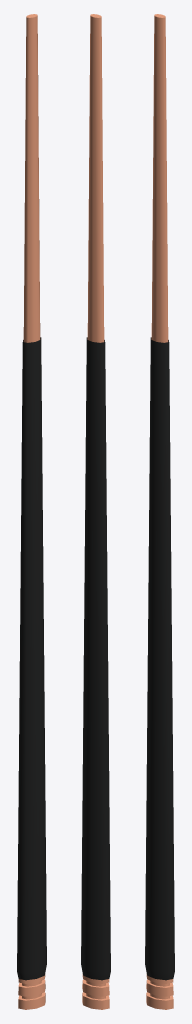
File: chopstick.glb
The picture shows the model from 3 angles, left to right: view 1: azimuth 30°, elevation 25°; view 2: azimuth 150°, elevation 25°; view 3: azimuth 330°, elevation 25°; orthographic projection.
Visible parts, largest first — view 1: chopstick; view 2: chopstick; view 3: chopstick.
Boxes of the visible parts, bbox=[...] form: chopstick: bbox=[17, 14, 46, 1009]; chopstick: bbox=[81, 14, 110, 1009]; chopstick: bbox=[145, 14, 174, 1009].
Size of the model in its own units: 0.1749 by 5.51 by 0.105.
1 material, 1 textured.
